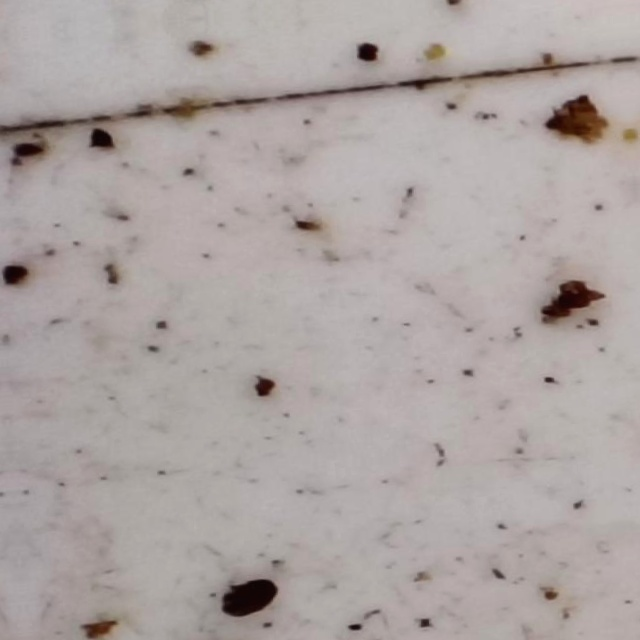varroa: (216, 575, 283, 622)
